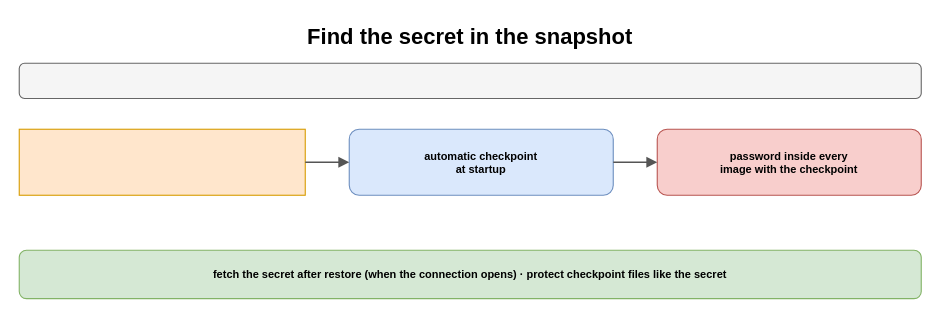
Some shapes in this 941 by 318 pixel diagram are drawn without their labels. The box of each missing label's shape, as (x1, y1, x2, y2) in pixels:
A checkpoint is a copy of process memory: (18, 62, 921, 98)
ReportingConnection @Value("${reporting.password}") read at context start: (18, 128, 305, 195)
